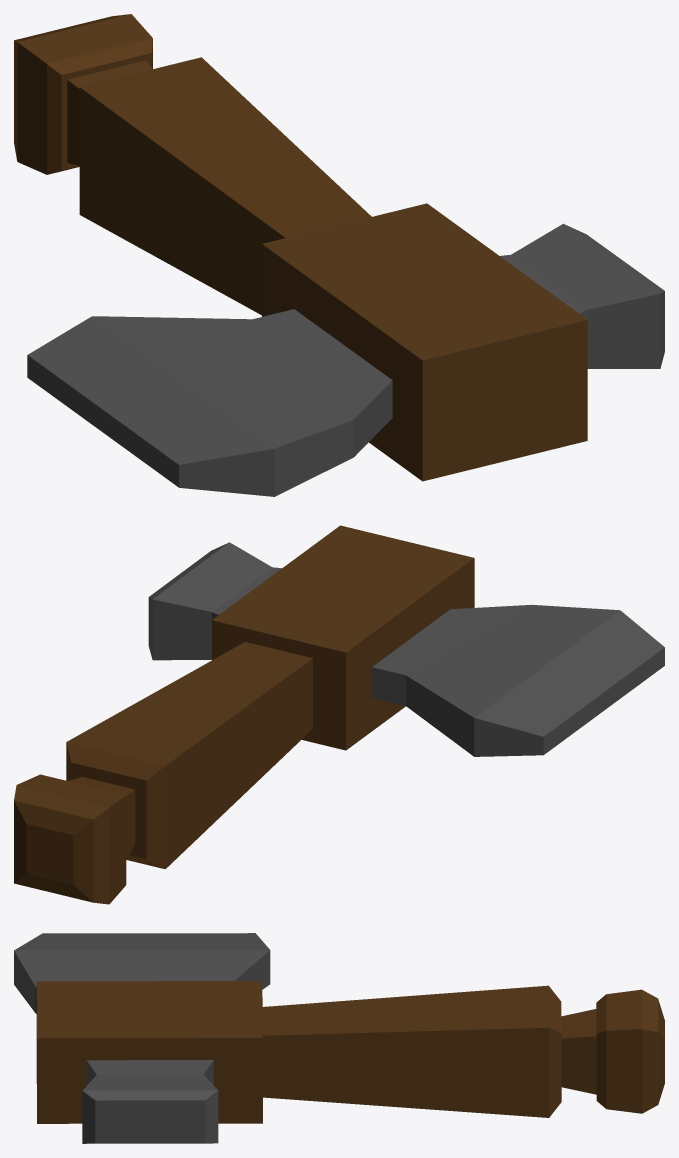
File: F_Hatchet_A.fbx
3 renders of one model, top to bottom at view 1: azimuth 30°, elevation 25°; view 2: azimuth 150°, elevation 25°; view 3: azimuth 270°, elevation 25°, orthographic. The views are drawn at different scales.
Visible parts, largest first — view 1: F_Hatchet_A; view 2: F_Hatchet_A; view 3: F_Hatchet_A.
Boxes of the visible parts, box(x1,y1,x2,y2) form: F_Hatchet_A: box(14, 14, 664, 496); F_Hatchet_A: box(14, 525, 664, 904); F_Hatchet_A: box(14, 933, 664, 1143).
Bounding box in the file's own units: 47.51 × 11.06 × 72.3.
